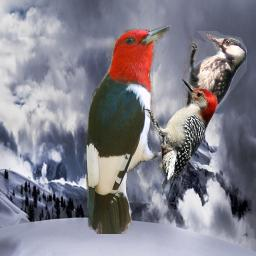Woodpecker: (84, 25, 197, 234), (139, 76, 221, 196), (182, 31, 247, 152)
